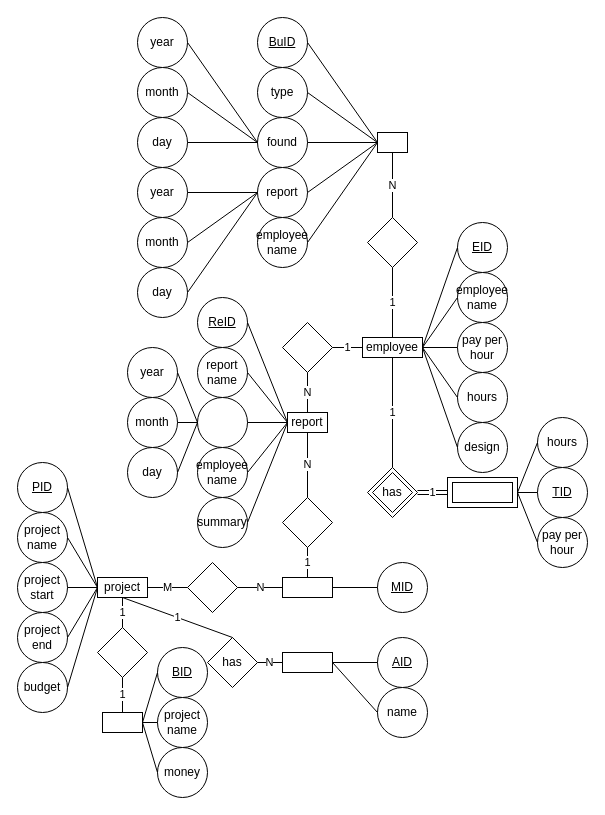
The diagram is 605 pixels wide and 815 high, and some of its shapes have lost their labels. Each missing label, with the centre of its shape:
"bill" belongs at point (122, 652).
"billing" belongs at point (122, 722).
"bug" belongs at point (392, 142).
"date" belongs at point (222, 422).
"handle" belongs at point (392, 242).
"manage" belongs at point (307, 522).
"manager" belongs at point (307, 587).
"resource" belongs at point (307, 662).
"run" belongs at point (212, 587).
"submit" belongs at point (307, 347).
"time sheet" belongs at point (482, 492).
